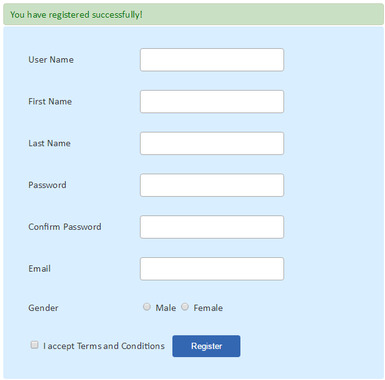_form_: (1, 1, 385, 380)
button: (172, 334, 241, 359)
checkbox: (29, 339, 39, 351)
checkbox_with_label: (27, 337, 165, 352)
field: (137, 256, 285, 282), (138, 172, 286, 198), (138, 214, 285, 240), (138, 89, 284, 115), (138, 47, 284, 72), (138, 131, 284, 156)
field_with_label: (29, 45, 287, 74), (29, 87, 287, 116), (27, 128, 285, 157), (29, 170, 287, 199), (29, 212, 287, 241), (29, 254, 287, 283)
radio: (142, 302, 152, 311), (181, 302, 190, 311)
radio_with_label: (180, 300, 224, 313), (139, 300, 177, 312)
